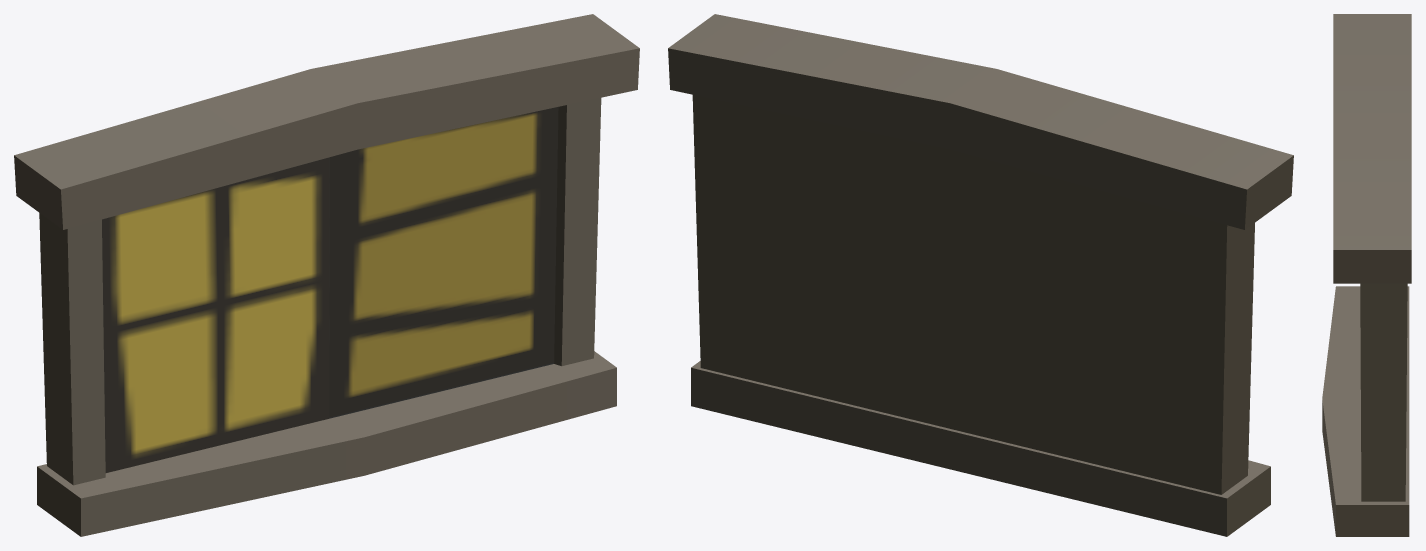
File: Window_C05.fbx
3 renders of one model, left to right at view 1: azimuth 30°, elevation 25°; view 2: azimuth 150°, elevation 25°; view 3: azimuth 270°, elevation 25°, orthographic. The views are drawn at different scales.
Visible parts, largest first — view 1: Window_C05; view 2: Window_C05; view 3: Window_C05.
Part boxes in pixels (left/top/right/bottom): Window_C05: left=14, top=14, right=639, bottom=536; Window_C05: left=668, top=14, right=1293, bottom=536; Window_C05: left=1322, top=14, right=1411, bottom=536.
Size of the model in its own units: 321 by 195 by 51.42.
